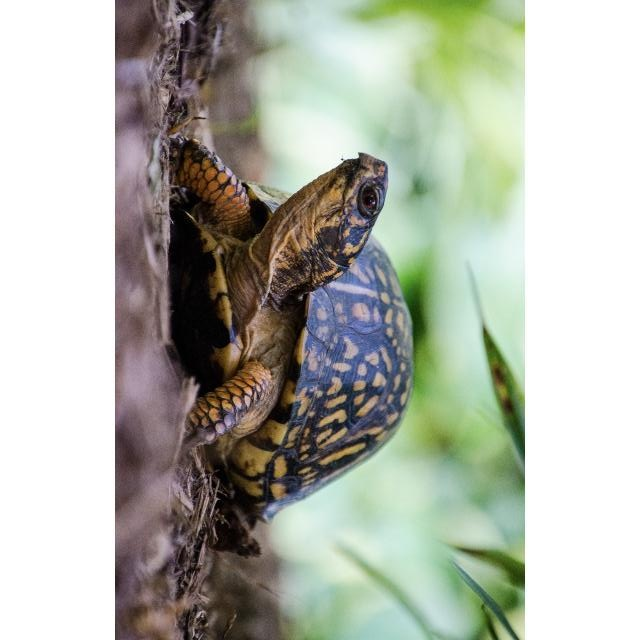turtle: (173, 135, 416, 521)
